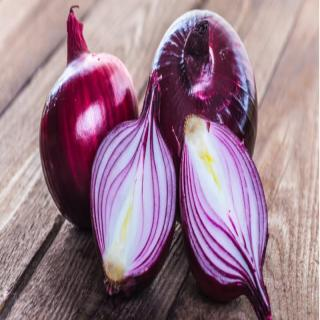Bawang Merah: (40, 5, 141, 231), (179, 114, 274, 320)
